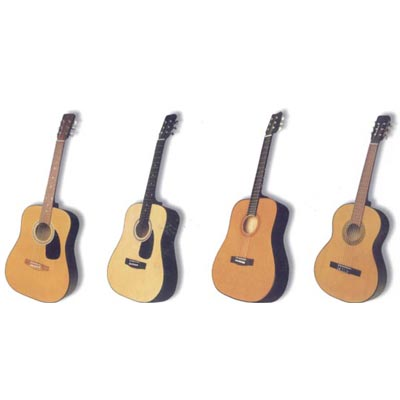guitar: (211, 114, 294, 304), (4, 110, 83, 304), (104, 112, 184, 303), (313, 116, 394, 303)
